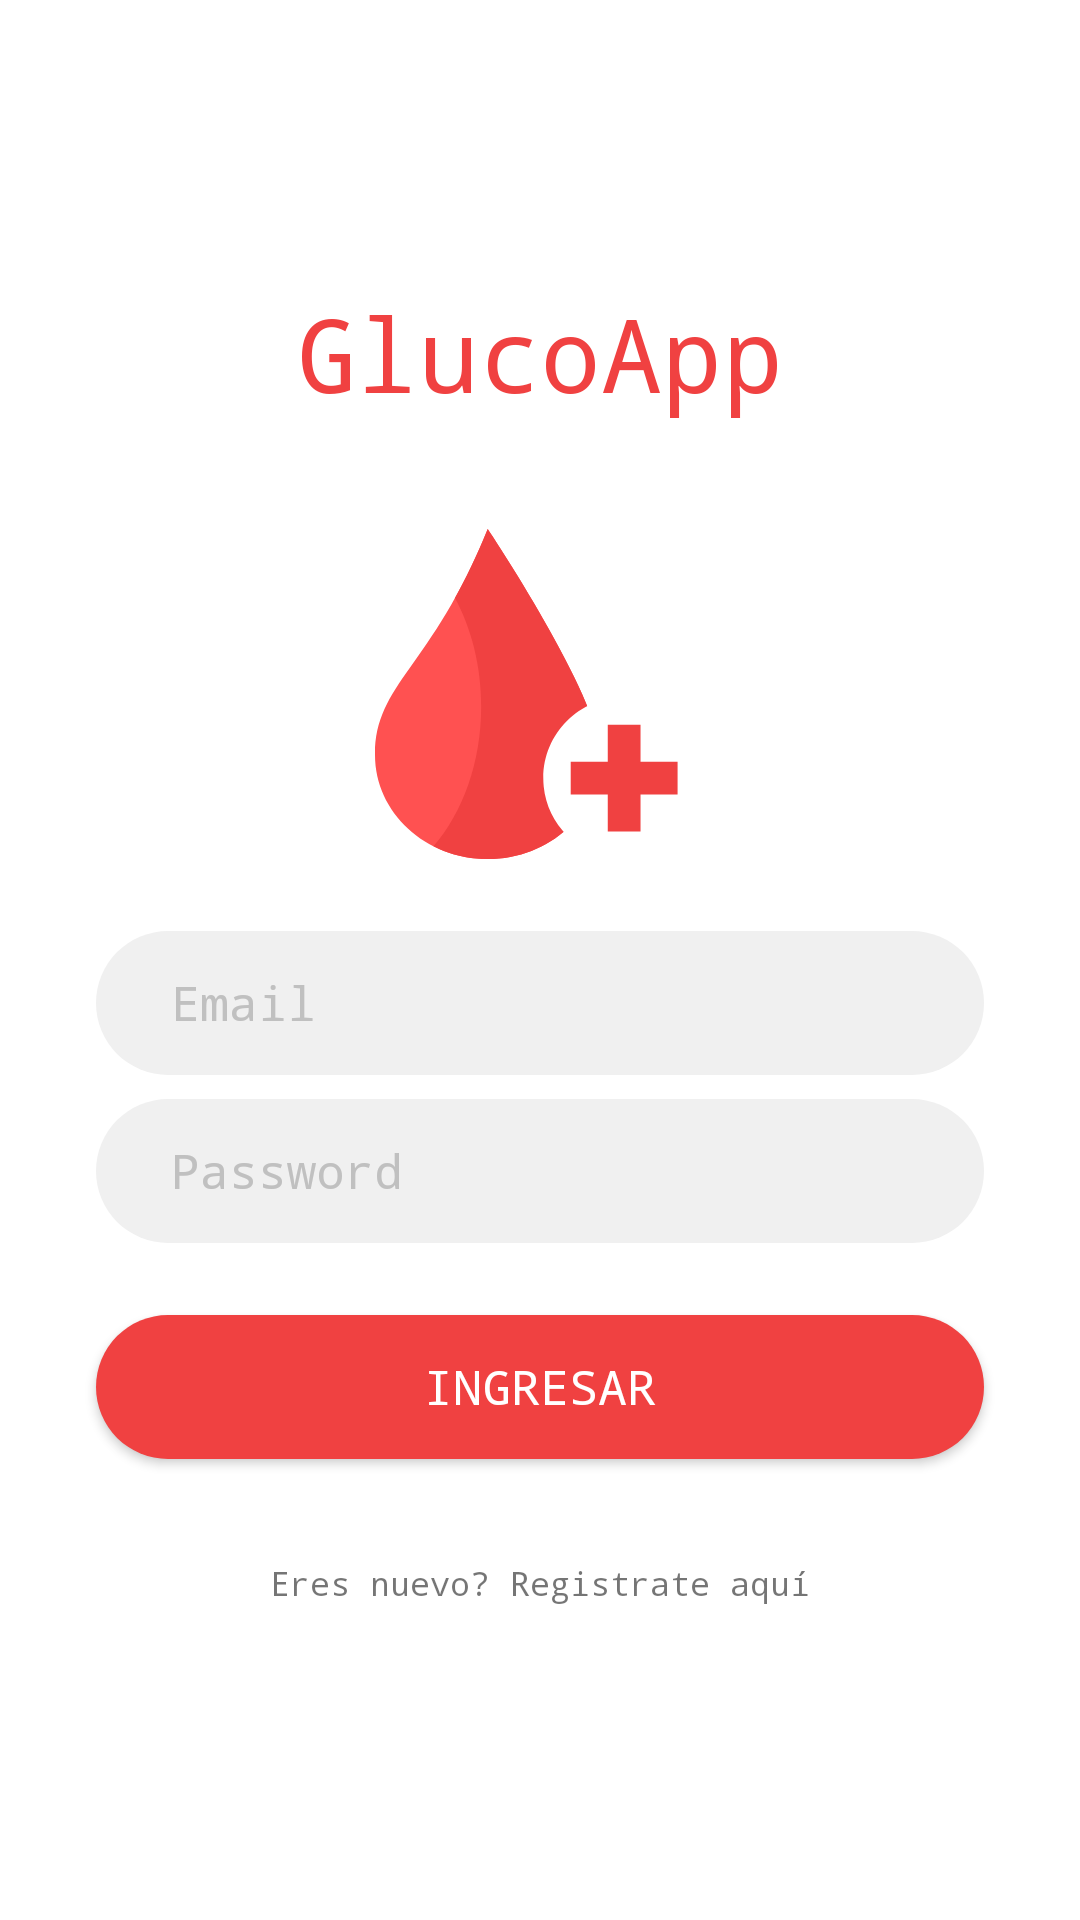

Icon bounding boxes for this 1080*1920 phone screenshot, format (x1, y1, x2, y2):
blood donation: (375, 529, 678, 859)
